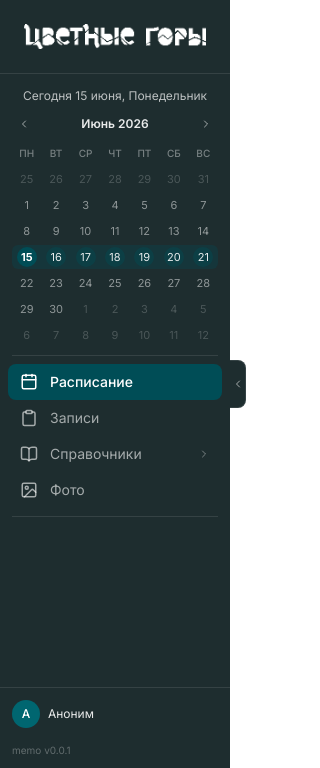
Scenario: Menubar role filtering (GH #263) › master still sees allowed items: Расписание, Записи, Услуги, Фото
The width and height of the screenshot is (320, 768).
Expected: the link "Расписание" is shown, top-left (8, 364), bottom-right (222, 400)
Expected: the link "Записи" is shown, top-left (20, 409), bottom-right (99, 427)
Step 1. Click the button "Справочники" → (115, 454), box top-left (8, 436), bottom-right (222, 472)
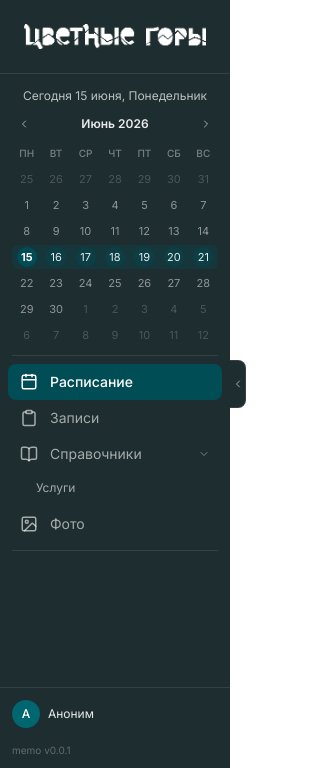
Expected: the link "Фото" is shown, top-left (20, 515), bottom-right (85, 533)
Result: the link "Услуги" is shown at top-left (36, 480), bottom-right (76, 495)
